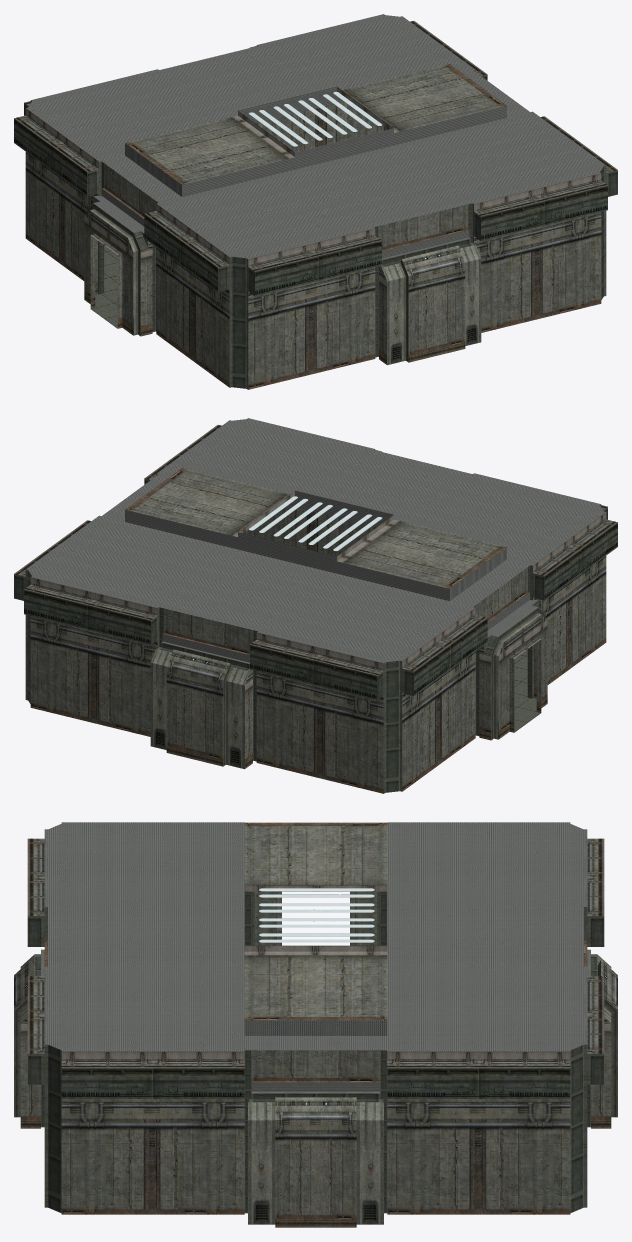
File: poi_all_impl_bunker_crimelord_retreat_s01_r6_storage_mesh_r6.fbx
The picture shows the model from 3 angles, top to bottom: view 1: azimuth 30°, elevation 25°; view 2: azimuth 150°, elevation 25°; view 3: azimuth 270°, elevation 25°; orthographic projection. The views are drawn at different scales.
Parts seen in each view (by area): view 1: mesh_node; view 2: mesh_node; view 3: mesh_node.
Boxes of the visible parts, box(x1,y1,x2,y2) form: mesh_node: box(14, 14, 617, 389); mesh_node: box(14, 418, 617, 793); mesh_node: box(14, 822, 617, 1227).
Size of the model in its own units: 17.9 by 6 by 17.8.
